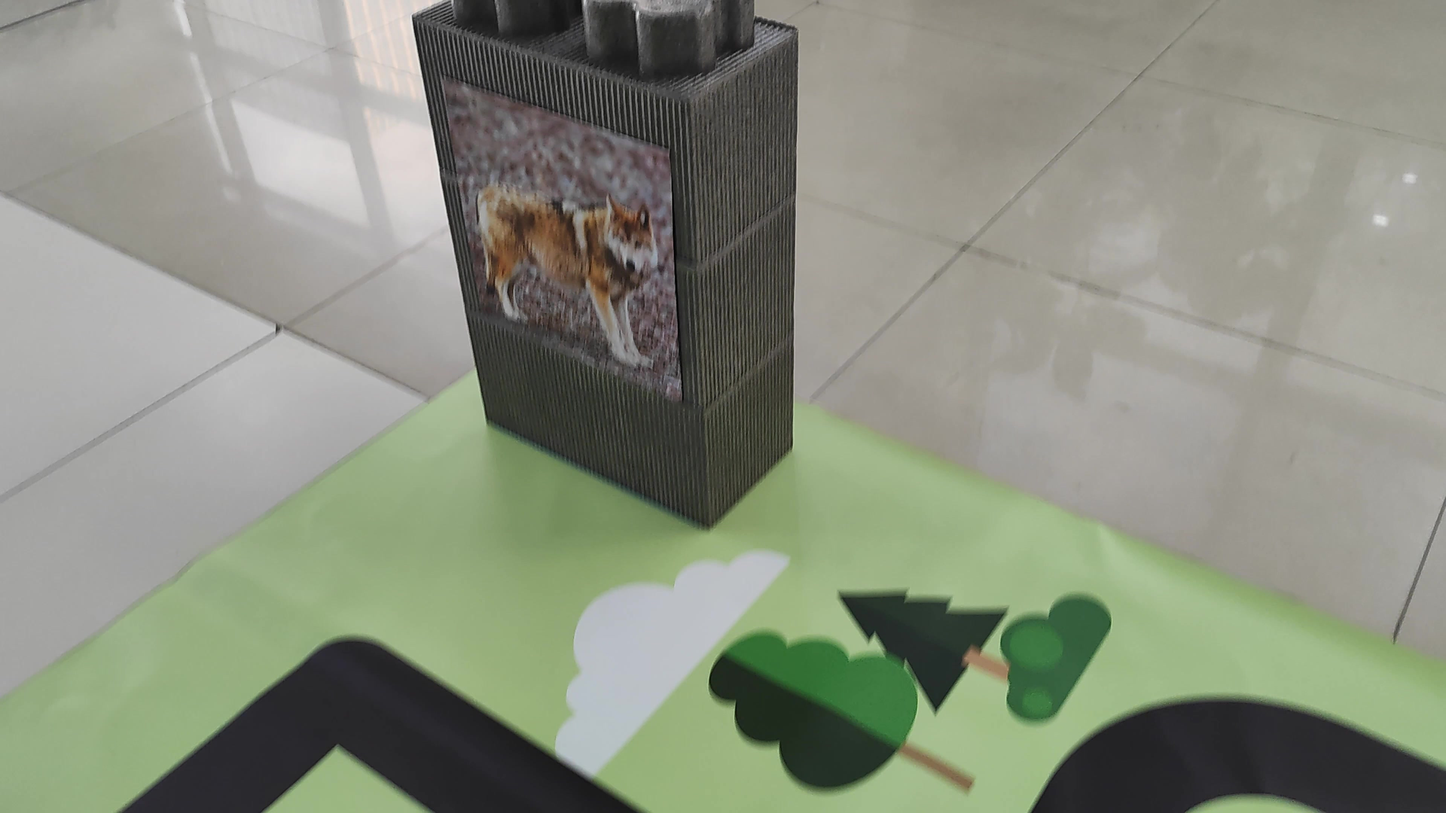wolf: (451, 115, 661, 370)
